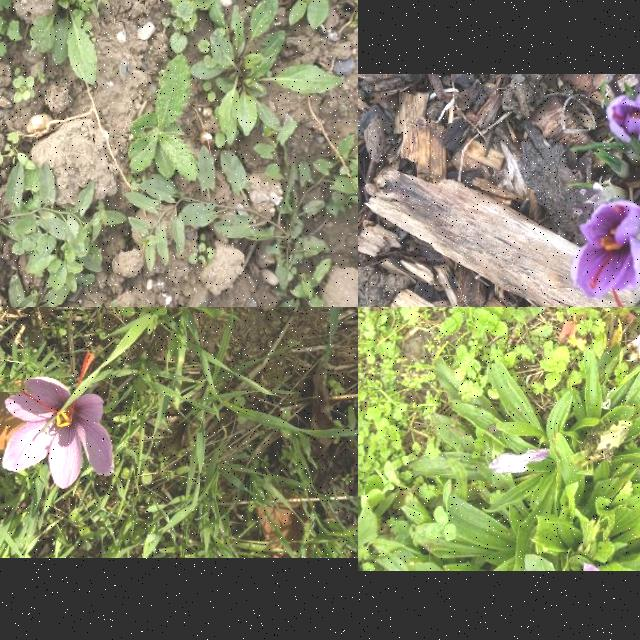flower: (3, 352, 115, 490), (570, 199, 640, 307), (607, 90, 640, 143)
